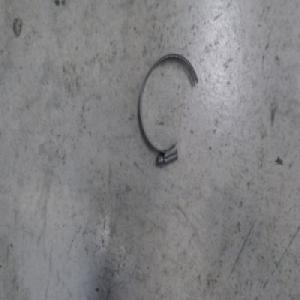AdjustableClamp: (137, 52, 200, 168)
